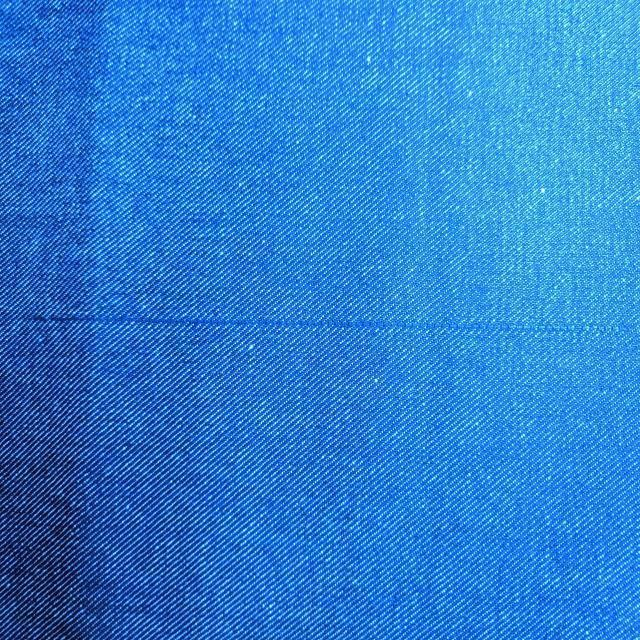Line: (27, 312, 639, 332)
